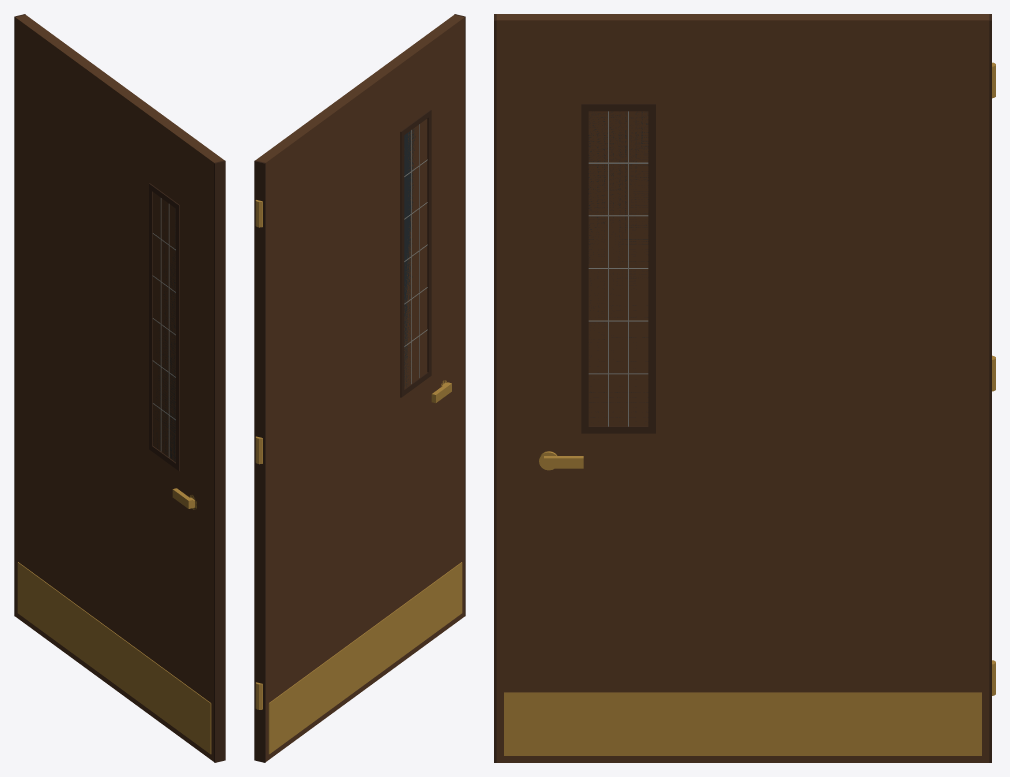
Rendered from SM_80s_RoomDoor_200.glb.
3 renders of one model, left to right at view 1: azimuth 30°, elevation 25°; view 2: azimuth 150°, elevation 25°; view 3: azimuth 270°, elevation 25°, orthographic. The views are drawn at different scales.
Parts seen in each view (by area): view 1: SM_80s_RoomDoor_200; view 2: SM_80s_RoomDoor_200; view 3: SM_80s_RoomDoor_200.
Part boxes in pixels (x1,y1,x2,y2): SM_80s_RoomDoor_200: [14, 14, 225, 762]; SM_80s_RoomDoor_200: [254, 14, 465, 762]; SM_80s_RoomDoor_200: [494, 14, 995, 762].
Size of the model in its own units: 0.134 by 3.29 by 2.02.
